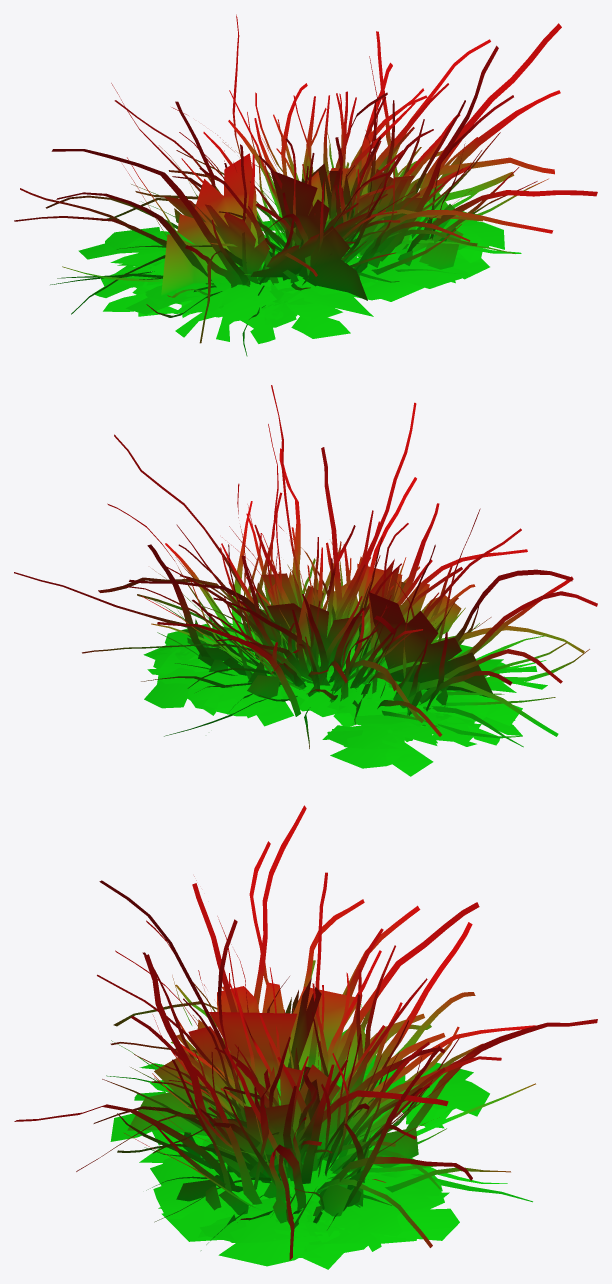
File: Wild Grass_LOD2_Var5_vczndjqja.fbx
The picture shows the model from 3 angles, top to bottom: view 1: azimuth 30°, elevation 25°; view 2: azimuth 150°, elevation 25°; view 3: azimuth 270°, elevation 25°; orthographic projection. The views are drawn at different scales.
Parts seen in each view (by area): view 1: _rcxt_Var5_LOD2; view 2: _rcxt_Var5_LOD2; view 3: _rcxt_Var5_LOD2.
Boxes of the visible parts, x1,y1,x2,y2 form: _rcxt_Var5_LOD2: (14,14,597,356); _rcxt_Var5_LOD2: (14,385,597,776); _rcxt_Var5_LOD2: (14,805,597,1269).
Bounding box in the file's own units: 123 × 53.32 × 99.77.
